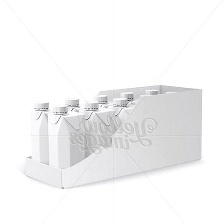carton: (48, 103, 86, 175), (80, 99, 112, 152), (27, 100, 51, 164), (108, 95, 135, 137)
